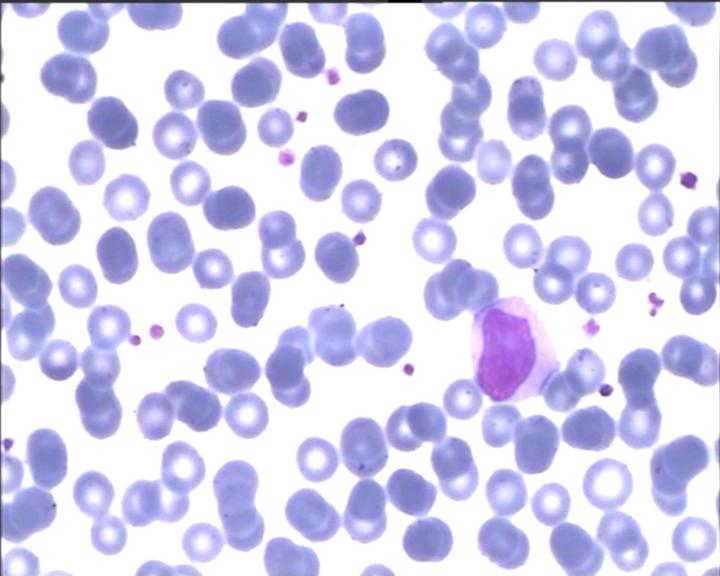mono: (465, 292, 561, 408)
